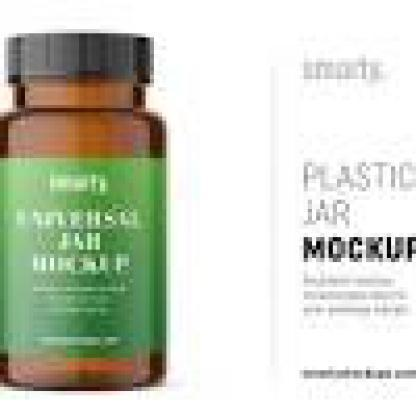jar: (0, 33, 166, 389)
